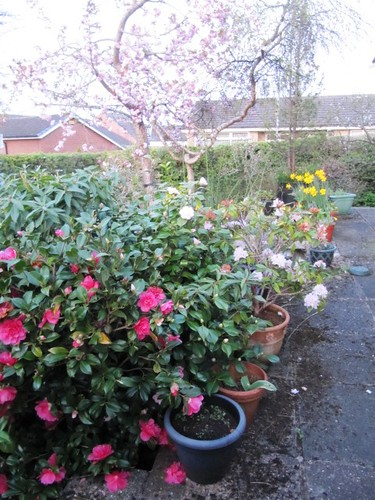building: (192, 87, 375, 141), (1, 106, 134, 151)
flowers: (1, 249, 237, 500)
tree: (75, 1, 292, 217)
vegetation: (6, 136, 367, 250)
